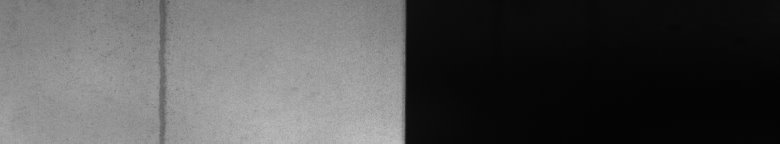hd: (150, 4, 173, 136)
